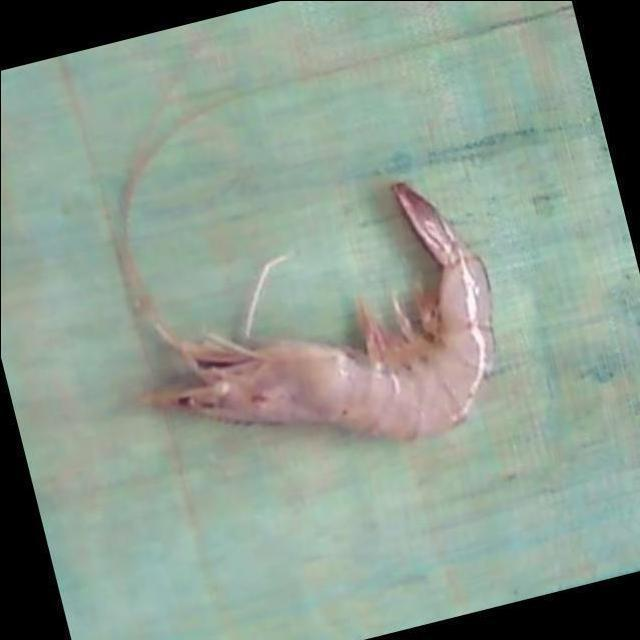shrimp: (140, 183, 493, 440)
